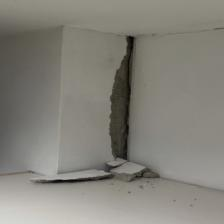High: (103, 33, 140, 162)
